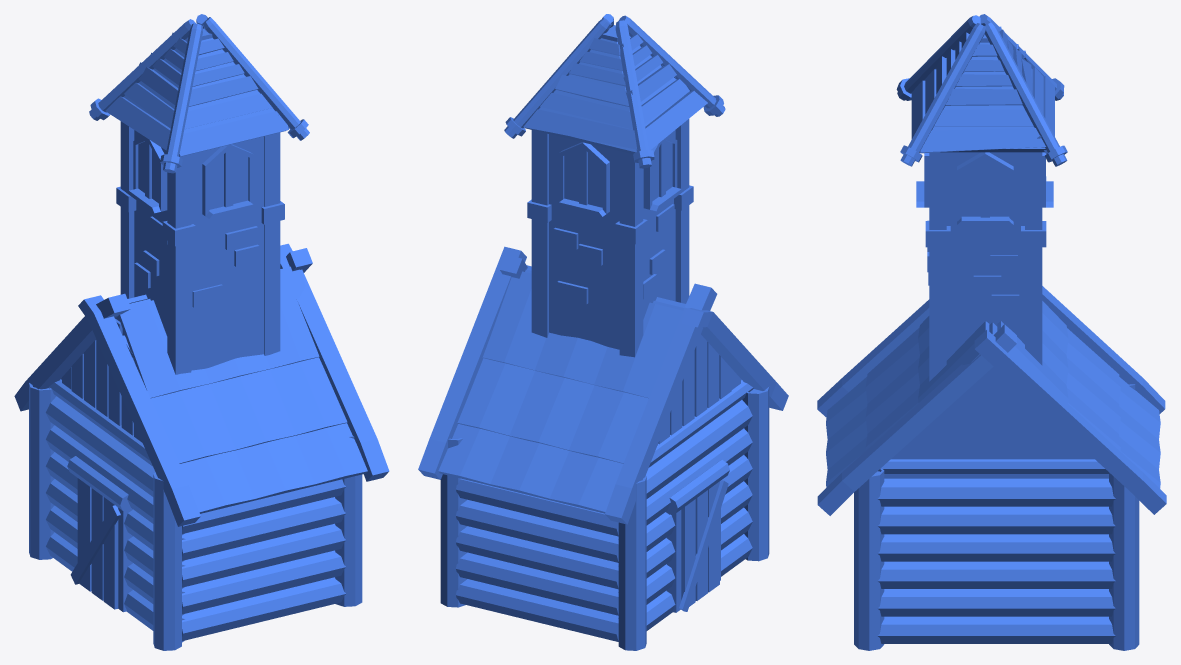
File: Keep_Variant1.fbx
3 views of the same model, side by side, from view 1: azimuth 30°, elevation 25°; view 2: azimuth 150°, elevation 25°; view 3: azimuth 270°, elevation 25° (orthographic). The views are drawn at different scales.
Visible parts, largest first — view 1: Keep_Variant1; view 2: Keep_Variant1; view 3: Keep_Variant1.
Boxes of the visible parts, box(x1,y1,x2,y2) form: Keep_Variant1: box(14, 14, 389, 650); Keep_Variant1: box(418, 14, 788, 650); Keep_Variant1: box(817, 14, 1166, 650).
Size of the model in its own units: 261 by 664 by 363.
